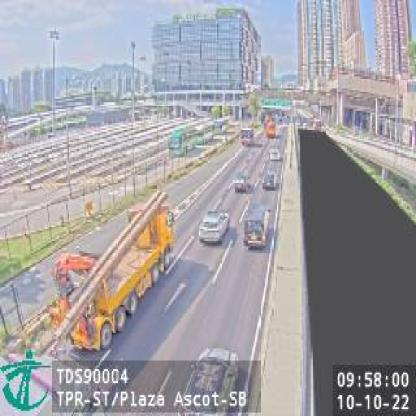Car: (179, 346, 240, 413), (198, 208, 229, 243), (245, 214, 267, 249), (234, 174, 249, 193), (263, 173, 275, 189), (271, 146, 281, 160)
Truck: (50, 192, 176, 359)
